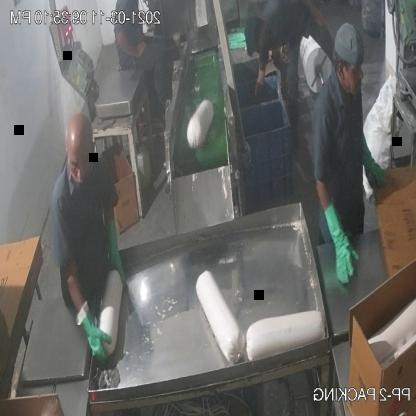glove: (314, 200, 357, 291), (69, 304, 112, 378), (105, 214, 127, 285)
no_glove: (112, 27, 148, 64)
